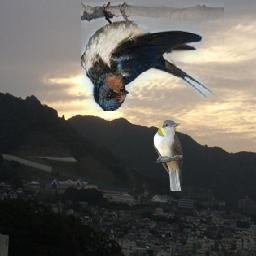Cuckoo: (153, 121, 183, 192)
Swallow: (82, 3, 225, 112)
